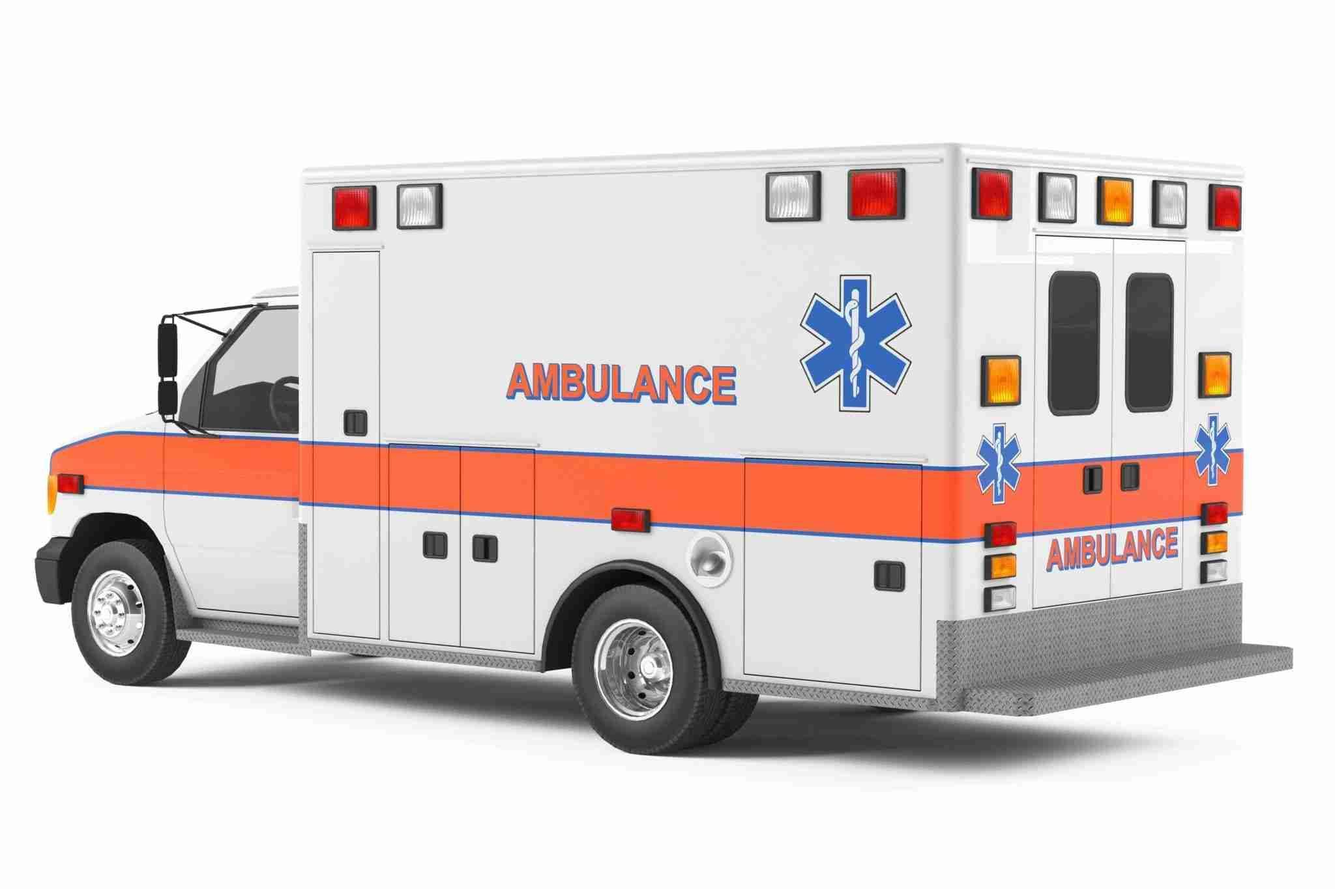Ambulance: (791, 280, 920, 426), (498, 348, 743, 424), (1050, 525, 1184, 584), (973, 419, 1025, 504), (1190, 410, 1237, 491)
